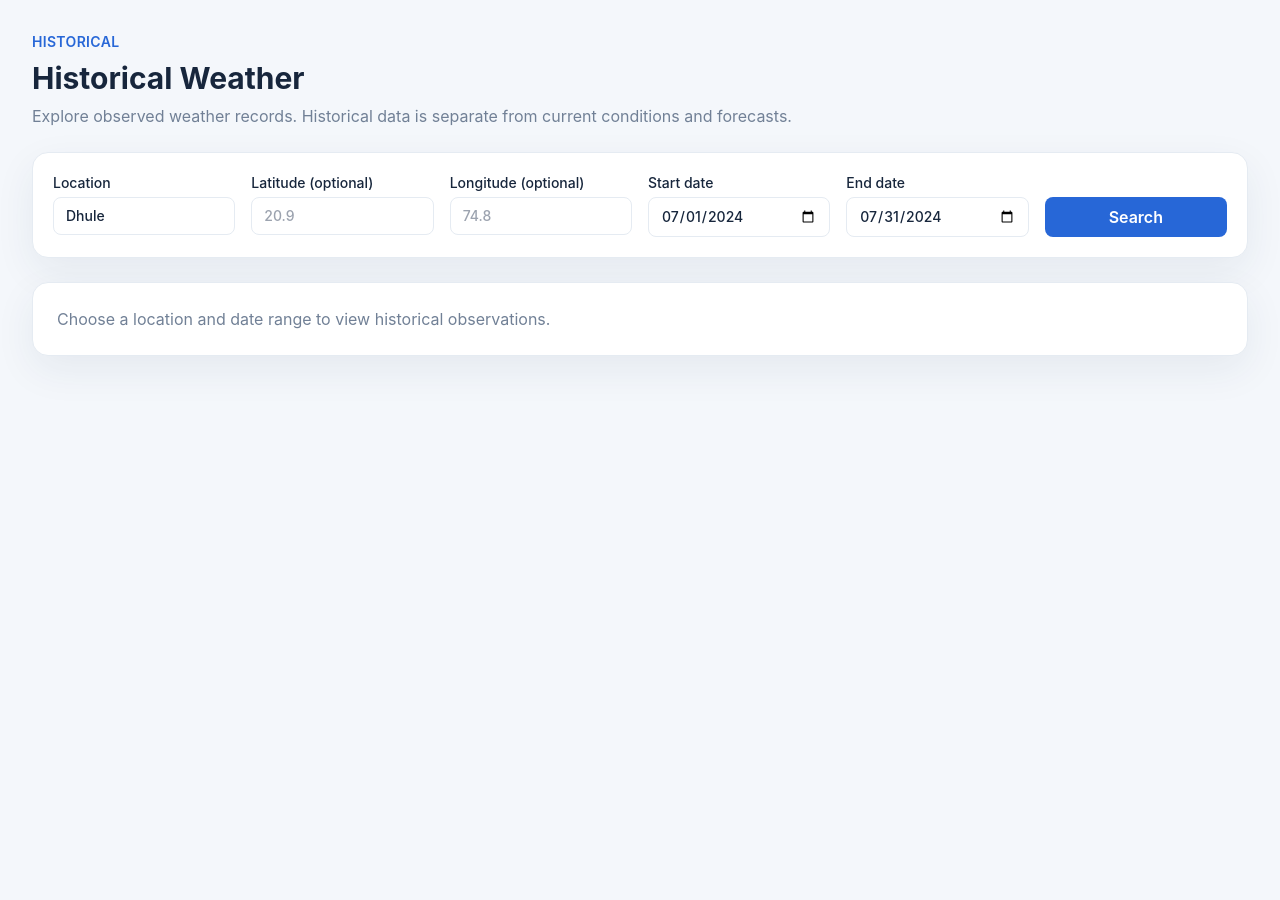
Scenario: Historical page › shows provenance and missing-value validation for installed records
Click the button "Search": coordinates (1136, 217) [1045,197,1227,237]
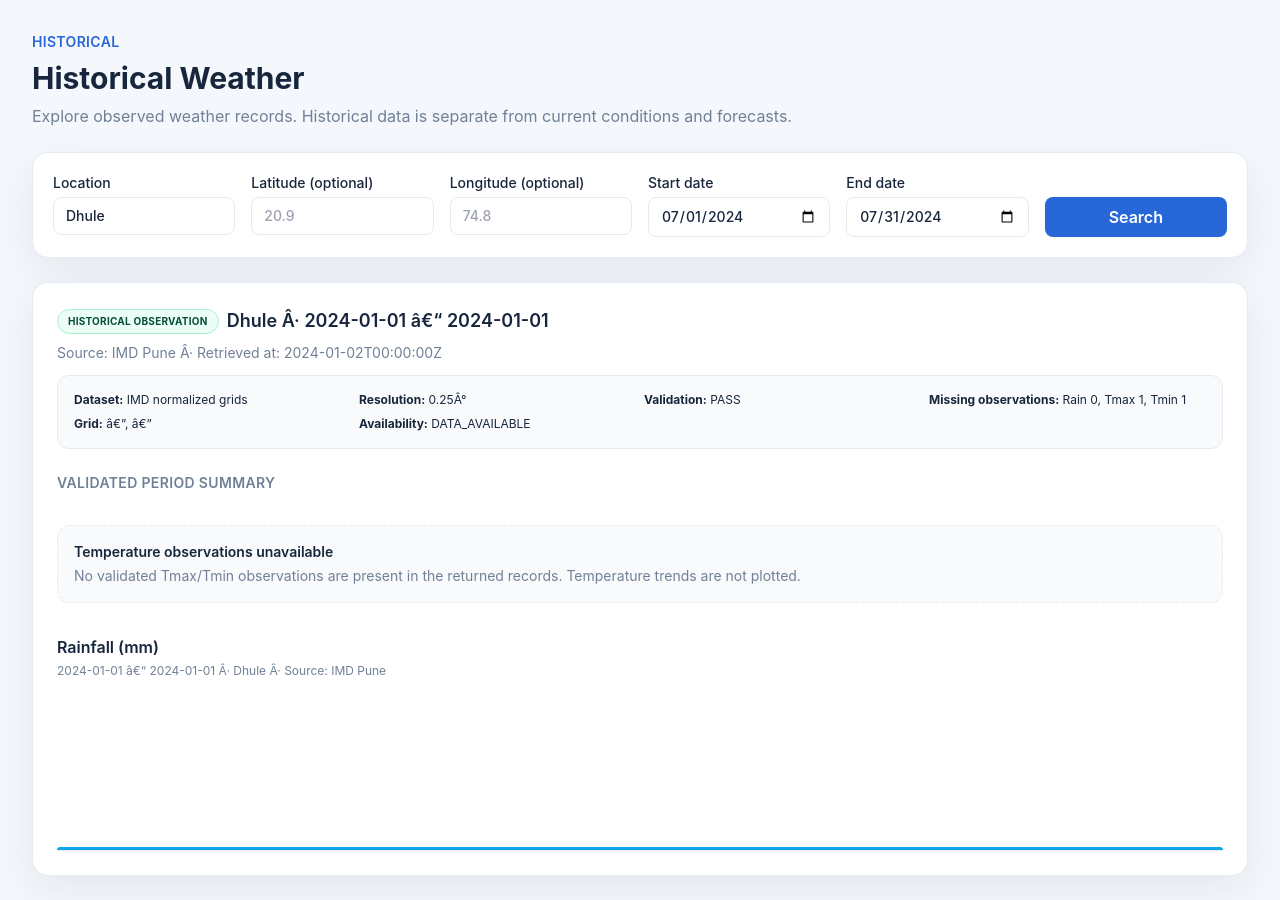
Expected: the text "Dataset: IMD normalized grids" is shown, [74,392,248,407]
Expected: the text "Missing observations: Rain 0, Tmax 1, Tmin 1" is shown, [929,392,1206,408]
